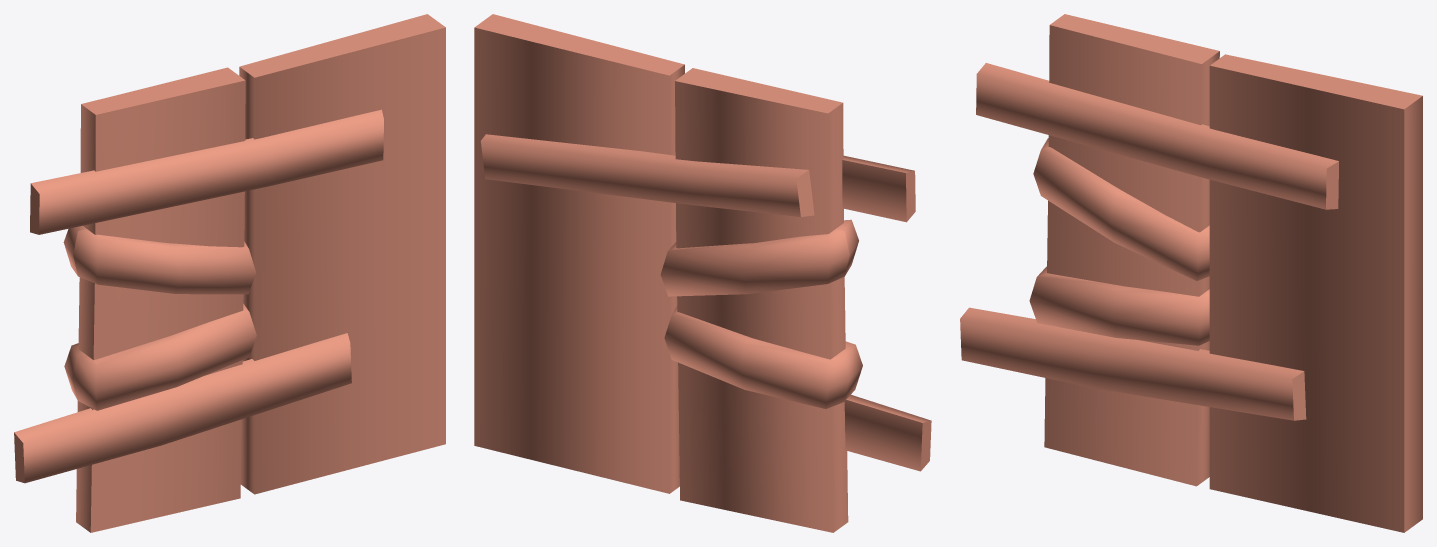
Rendered from shutter_01.fbx.
3 renders of one model, left to right at view 1: azimuth 30°, elevation 25°; view 2: azimuth 150°, elevation 25°; view 3: azimuth 330°, elevation 25°, orthographic.
Visible parts, largest first — view 1: Cube.194; view 2: Cube.194; view 3: Cube.194.
Boxes of the visible parts, <box> form: Cube.194: <box>14,14,445,532</box>; Cube.194: <box>474,14,931,532</box>; Cube.194: <box>960,14,1422,532</box>.
Size of the model in its own units: 1.22 by 1.15 by 0.1926.
